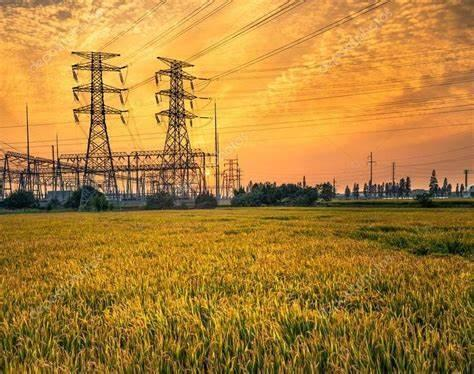power_tower: (62, 46, 136, 206), (142, 52, 219, 204)
